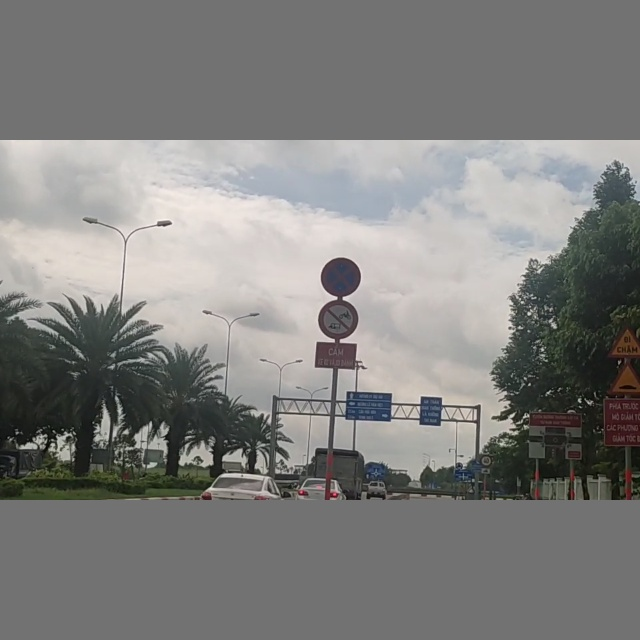P.111: (318, 299, 359, 341)
P.130: (317, 258, 363, 297)
